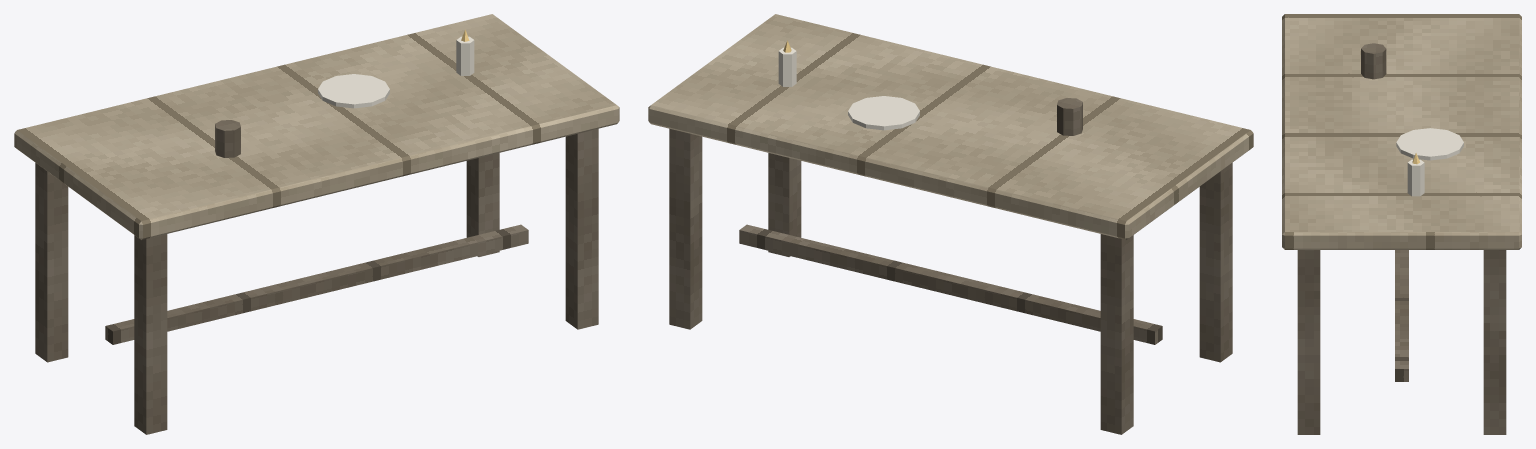
The model's file is table_wood.obj.
The picture shows the model from 3 angles, left to right: view 1: azimuth 30°, elevation 25°; view 2: azimuth 150°, elevation 25°; view 3: azimuth 270°, elevation 25°; orthographic projection. The views are drawn at different scales.
Visible parts, largest first — view 1: table_wood; view 2: table_wood; view 3: table_wood.
Part boxes in pixels (bbox=[...]): table_wood: bbox=[14, 14, 619, 434]; table_wood: bbox=[648, 14, 1253, 434]; table_wood: bbox=[1282, 14, 1521, 434].
Bounding box in the file's own units: 1.85 × 0.98 × 0.85.
